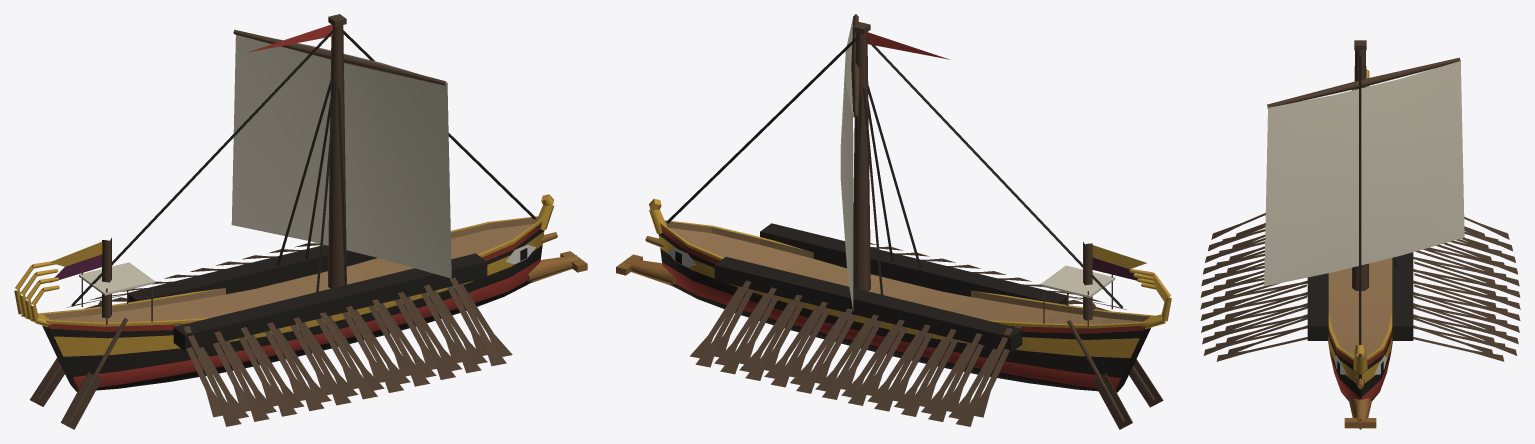
Rendered from hull_gold_trireme_large.glb.
The picture shows the model from 3 angles, left to right: view 1: azimuth 30°, elevation 25°; view 2: azimuth 150°, elevation 25°; view 3: azimuth 270°, elevation 25°; orthographic projection. The views are drawn at different scales.
Visible parts, largest first — view 1: hull, sail_main, oars, mast, rigging, deck, flag, yards; view 2: hull, oars, rigging, mast, deck, sail_main, flag, yards; view 3: sail_main, oars, hull, yards, rigging, mast.
Part boxes in pixels (<box>): hull: <box>14,194,587,391</box>; sail_main: <box>231,35,451,278</box>; oars: <box>67,243,512,426</box>; mast: <box>102,14,346,318</box>; rigging: <box>71,30,535,306</box>; deck: <box>30,262,155,429</box>; flag: <box>50,24,332,282</box>; yards: <box>233,29,445,85</box>; hull: <box>616,199,1171,392</box>; oars: <box>690,243,1126,426</box>; rigging: <box>666,37,1122,308</box>; mast: <box>852,22,1092,320</box>; deck: <box>1040,265,1163,429</box>; sail_main: <box>840,16,853,310</box>; flag: <box>866,32,1146,280</box>; yards: <box>851,14,860,117</box>; sail_main: <box>1264,61,1464,286</box>; oars: <box>1200,213,1520,361</box>; hull: <box>1307,69,1413,429</box>; yards: <box>1267,57,1460,108</box>; rigging: <box>1359,56,1397,357</box>; mast: <box>1352,40,1368,290</box>.
Size of the model in its own units: 20.06 by 11.35 by 10.88.
